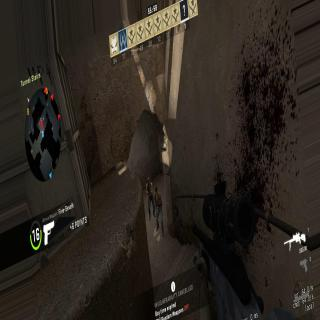T-Body: (154, 186, 165, 237), (146, 176, 155, 220)
T-Head: (147, 177, 151, 184), (154, 187, 158, 193)
